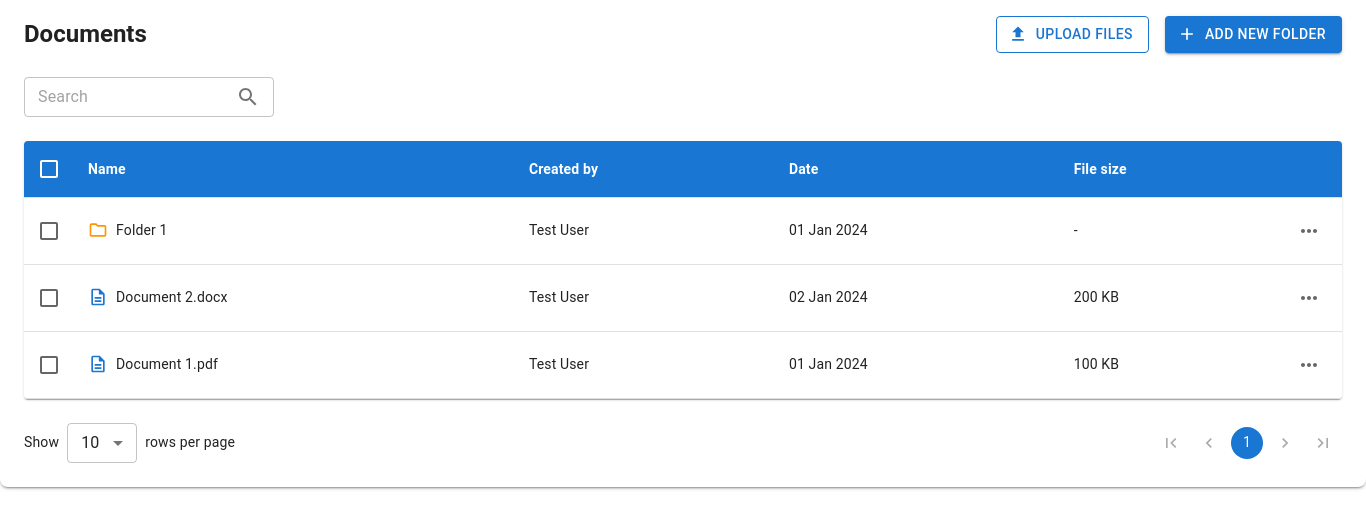
Scenario: DocumentListing › should select all items and show delete count when select all is clicked
The image size is (1366, 507).
Expected: the text "Document 1.pdf" is shown, [116,354,218,374]
Click the checkbox next to "Name".
click(49, 168)  # box [37,156,61,180]
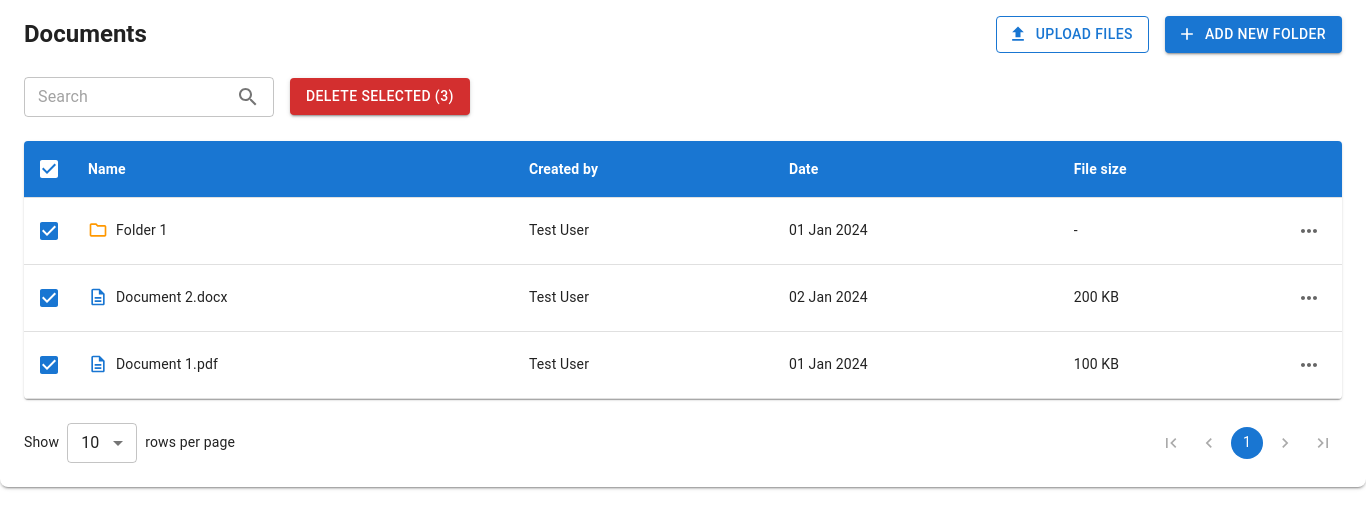
Expected: the button "Delete Selected (3)" is shown, [290,78,470,115]
